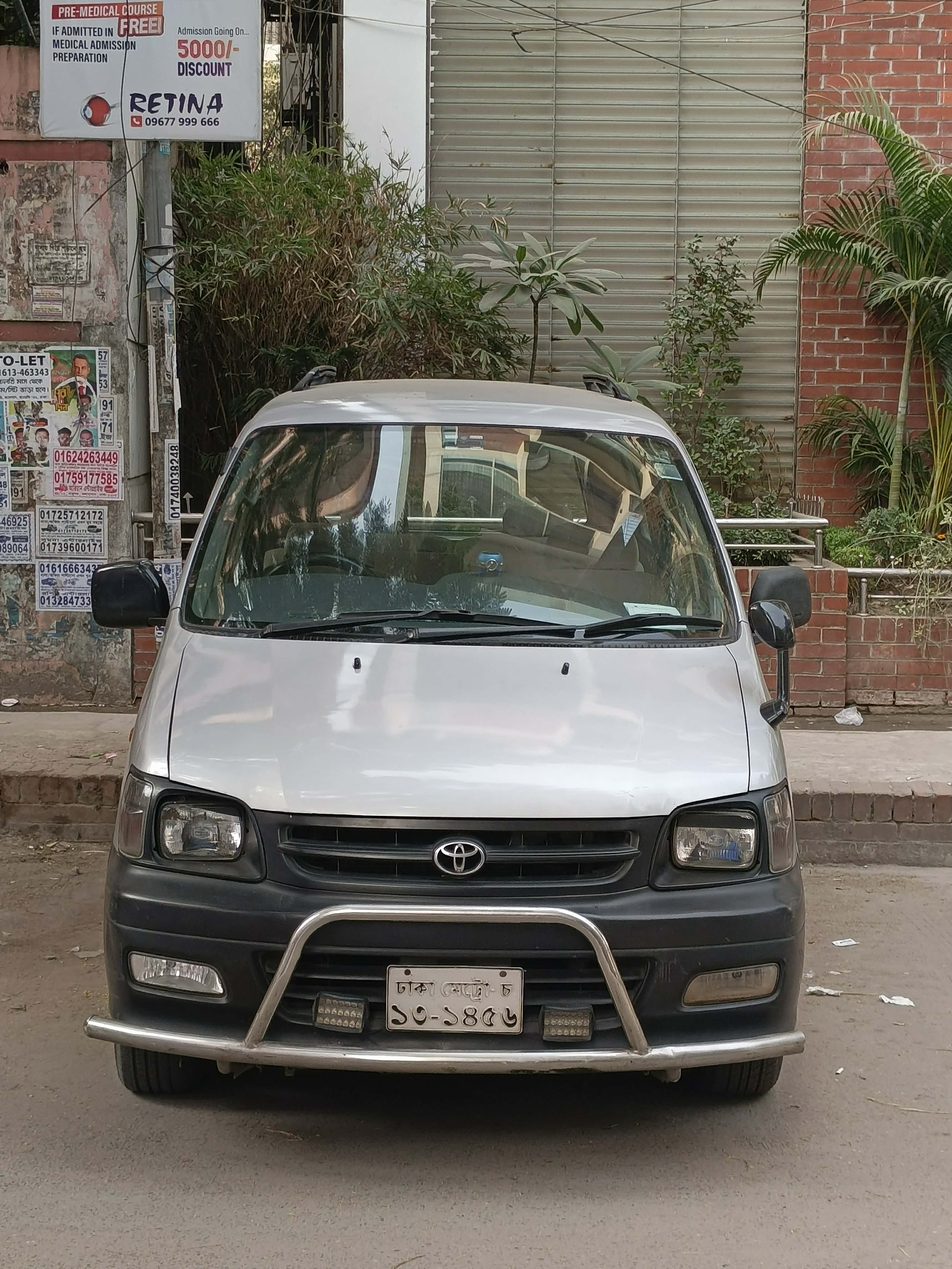private car: (100, 310, 905, 1214)
